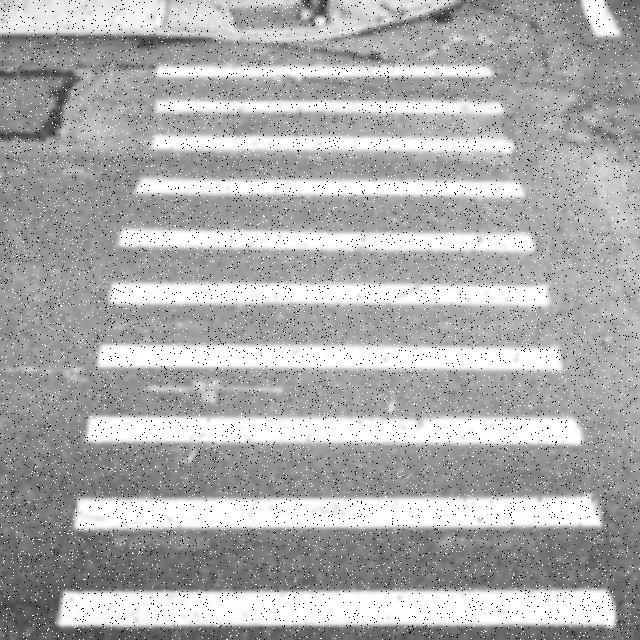Pedestrian crosswalk: (49, 48, 637, 639)
